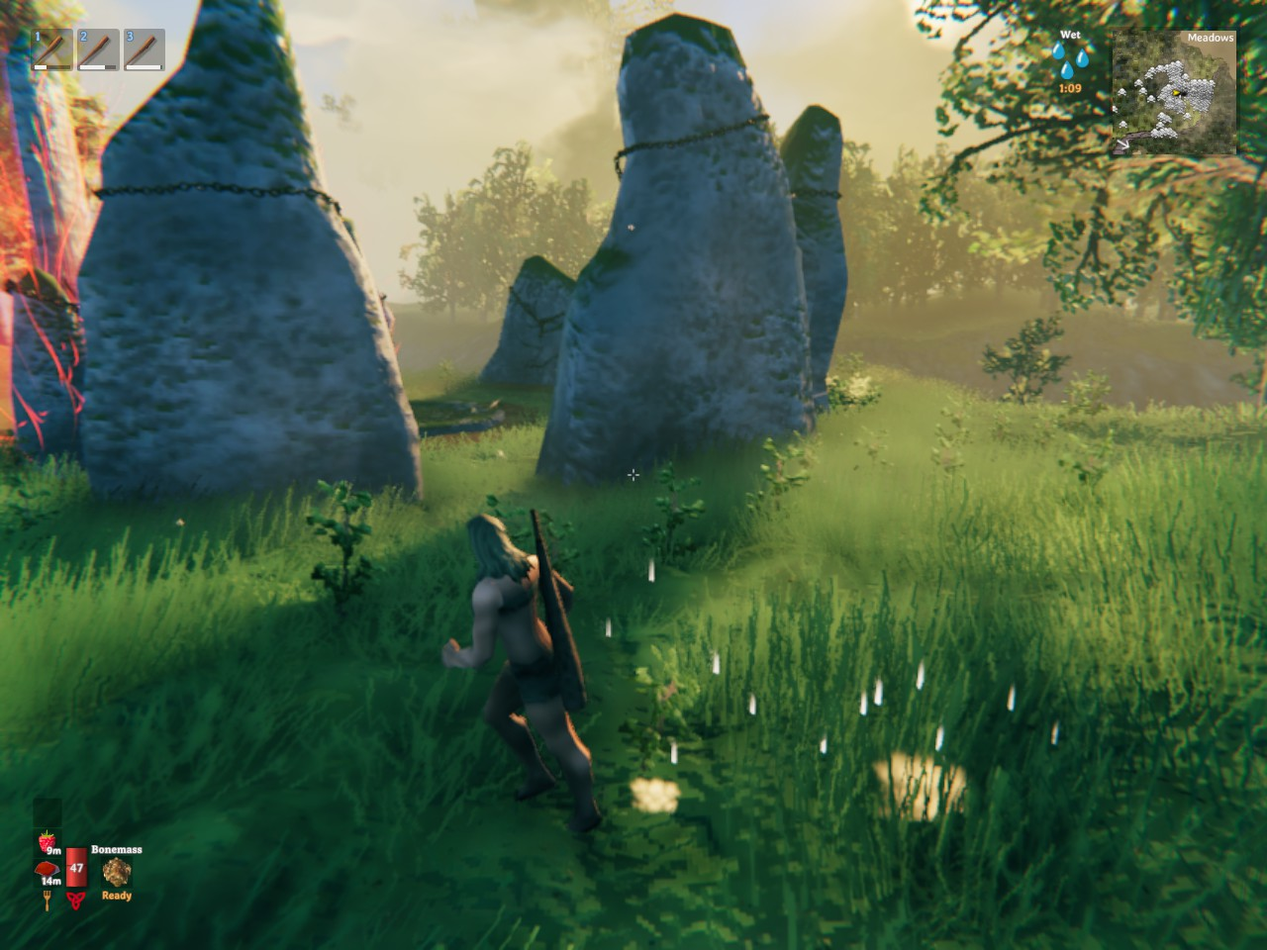Food Indicator: (36, 797, 63, 891)
Health Bar: (63, 820, 90, 891)
Hotbar: (24, 21, 195, 80)
Status Indicator: (965, 24, 1109, 98)
